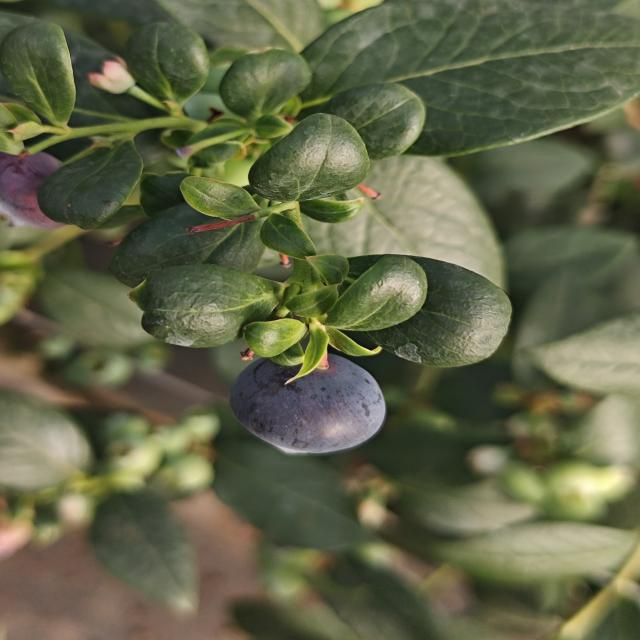ripe: (227, 361, 389, 459)
